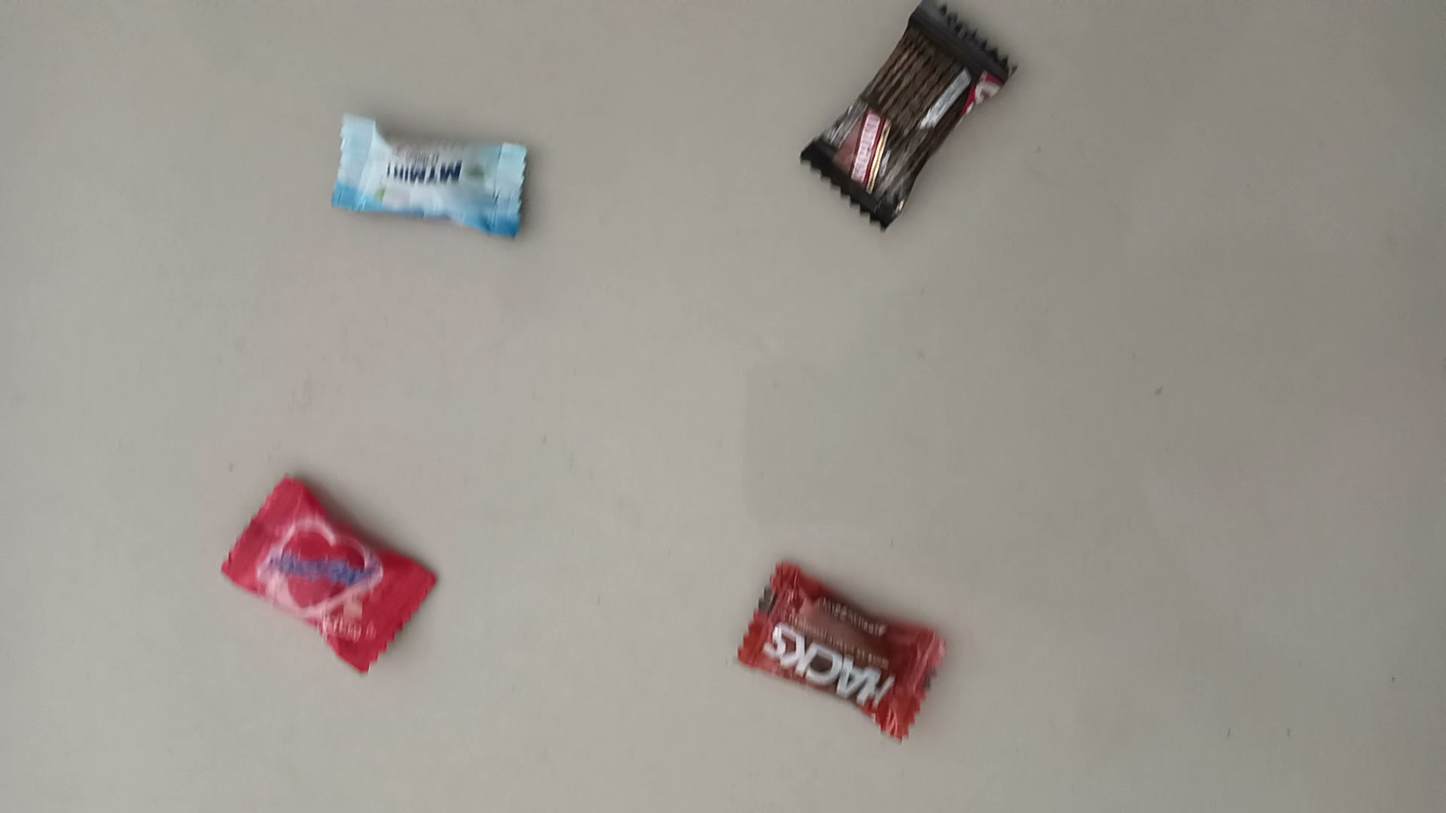HACK: (782, 548, 979, 685)
HB: (296, 458, 494, 586)
KOPIKO: (925, 0, 1040, 201)
MYM: (326, 112, 540, 240)
